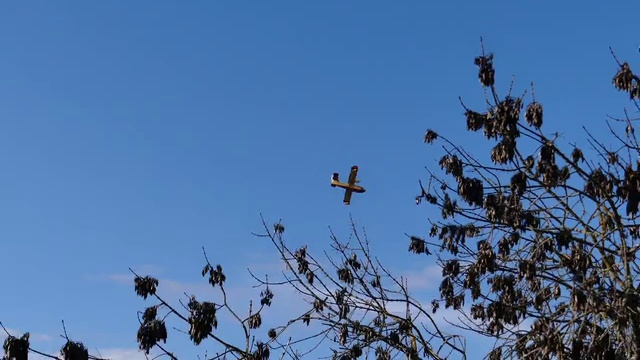plane: (330, 165, 366, 205)
